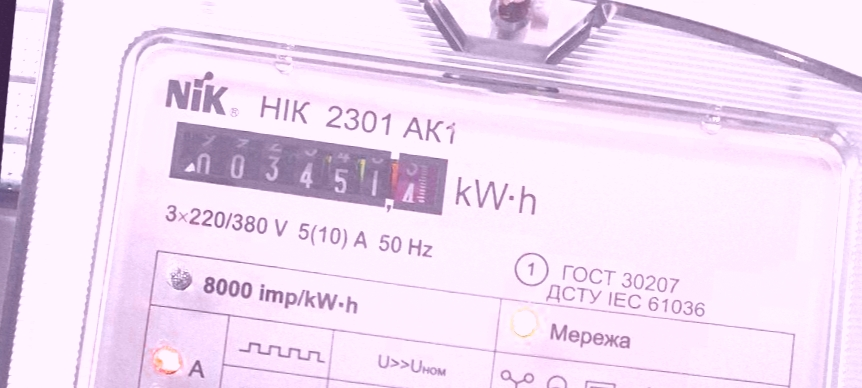0: (192, 147, 215, 176), (227, 151, 248, 180)
1: (366, 166, 385, 198)
3: (262, 151, 284, 184)
4: (295, 158, 318, 192), (397, 178, 420, 207)
5: (331, 163, 351, 196)
screen: (161, 115, 456, 223)
